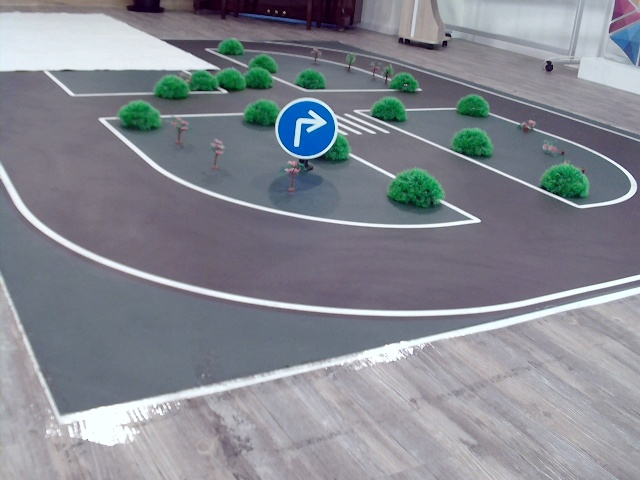turn_right: (291, 109, 324, 145)
